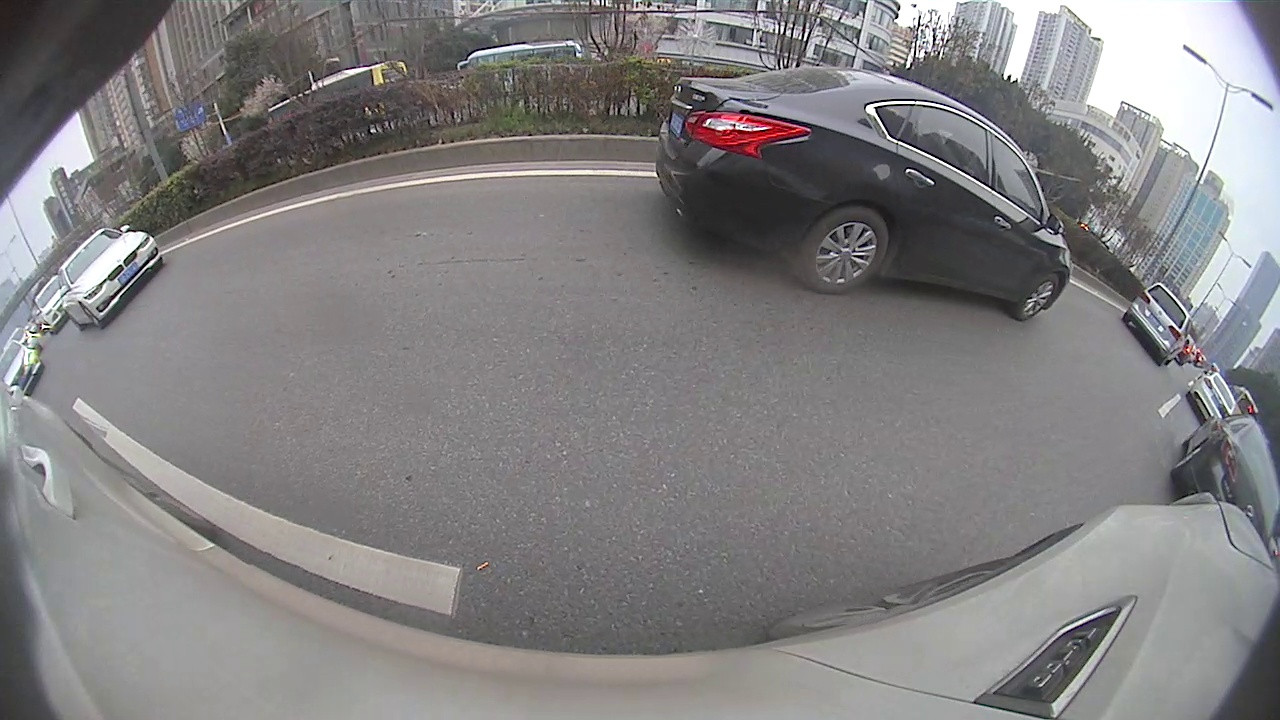car: (654, 65, 1074, 324), (1166, 402, 1278, 546), (56, 222, 163, 331), (1121, 280, 1195, 368), (1188, 369, 1237, 420)
front: (1016, 275, 1058, 325)
rear: (797, 209, 889, 297)
